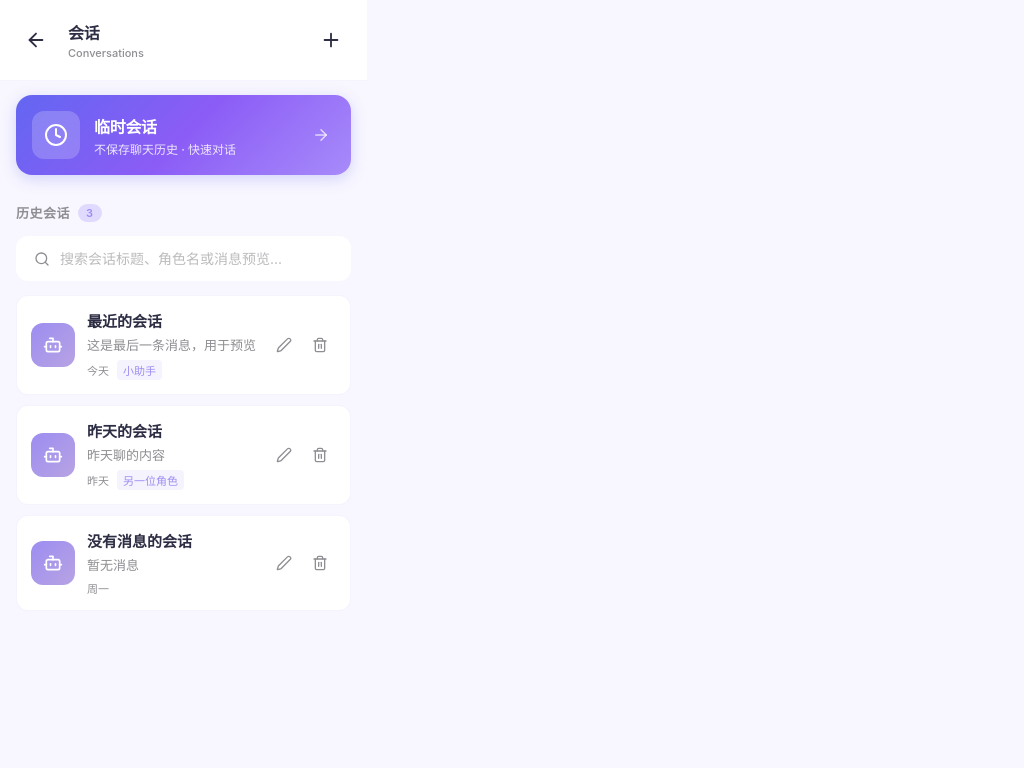
Test case: ConversationListPage 跳转 › 后端没有AI角色时，选择器兜底到内置默认角色
This screenshot has width=1024, height=768.
Expected: the element with class "conversation-item" showing "最近的会话 这是最后一条消息，用于预览 今天 小助手" is shown, [16, 295, 351, 395]
Click the 2nd button with class "nav-btn": (331, 40) [311, 20, 351, 60]
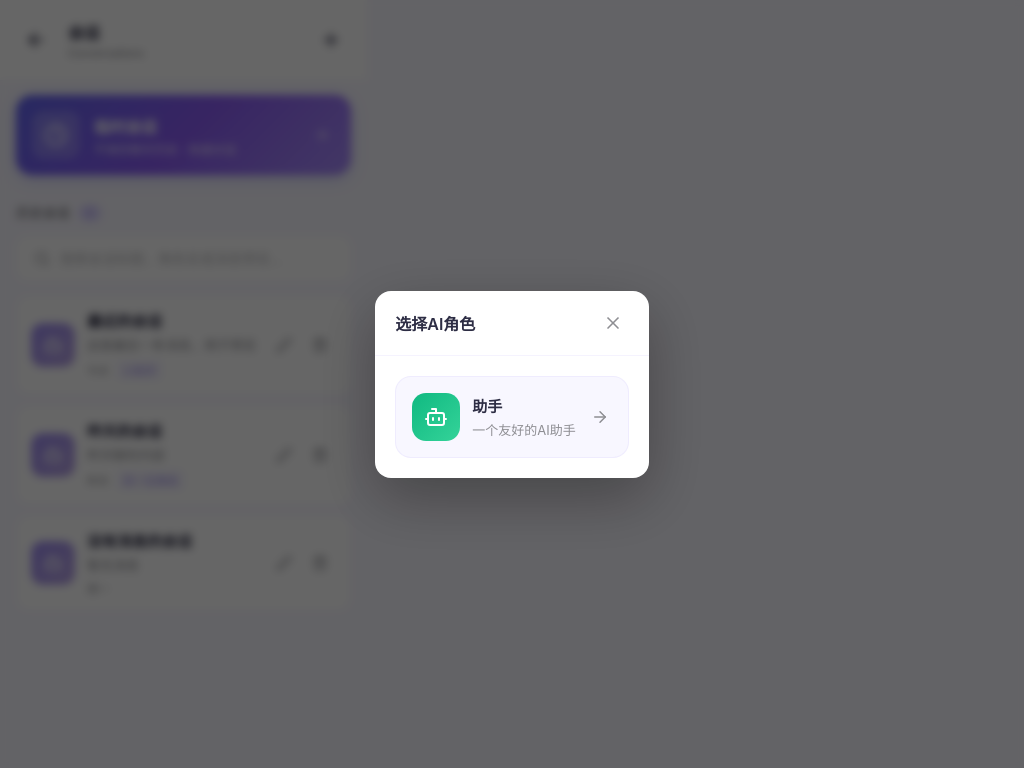
Expected: the text "选择AI角色" is shown, [395, 310, 475, 334]
